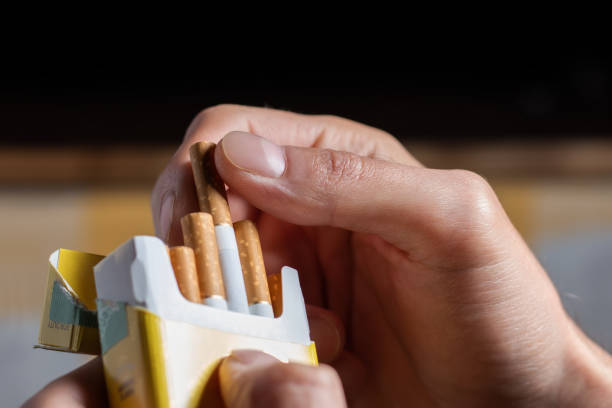cigarette: (31, 234, 320, 408), (188, 139, 250, 314), (179, 211, 228, 311), (233, 219, 275, 319), (169, 245, 200, 306), (266, 271, 283, 317)
